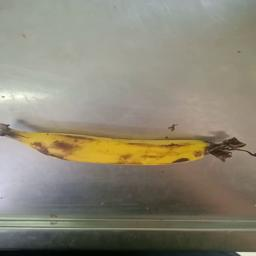Banana Semifresh: (6, 103, 255, 183)
